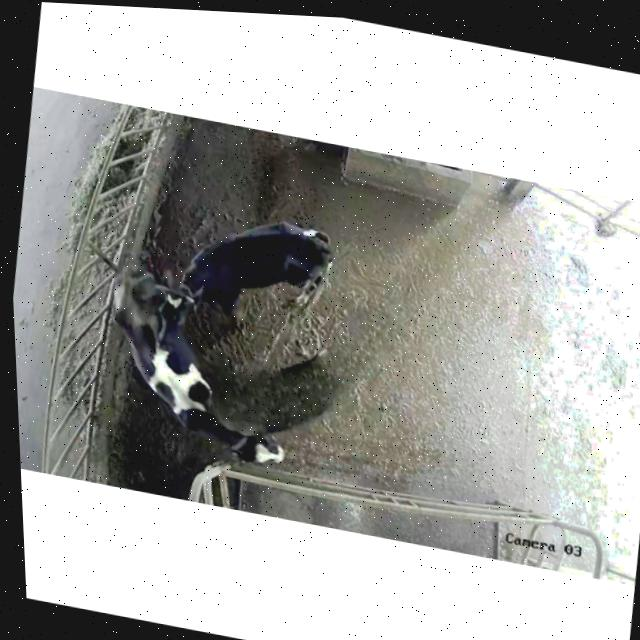propping: (124, 267, 222, 379)
